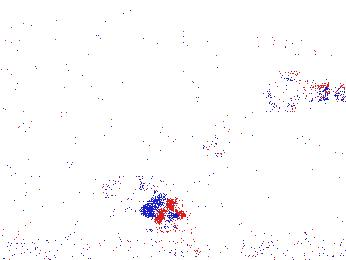flame jellyfish: (97, 171, 185, 223), (259, 71, 331, 115), (199, 110, 261, 159)
